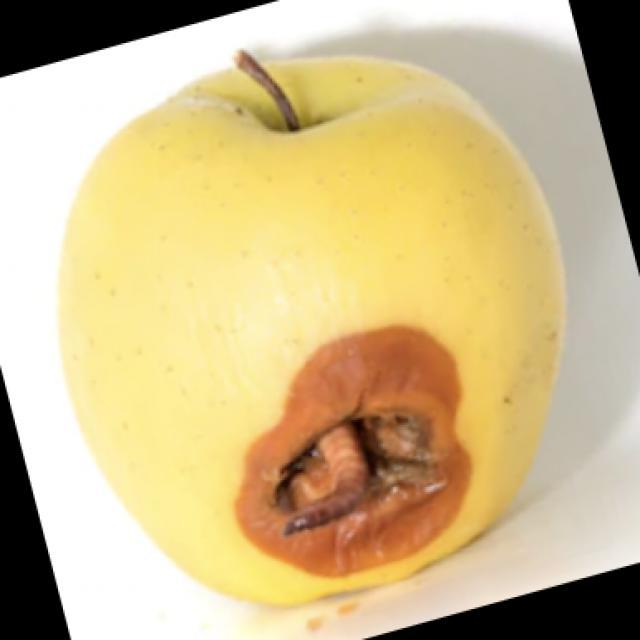Rotten: (83, 58, 570, 605)
